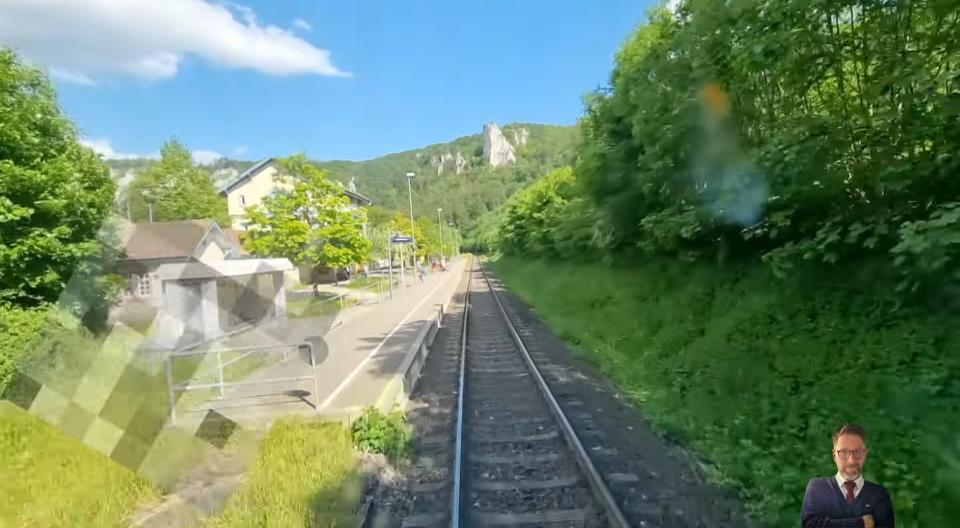Plant: (202, 406, 414, 528)
